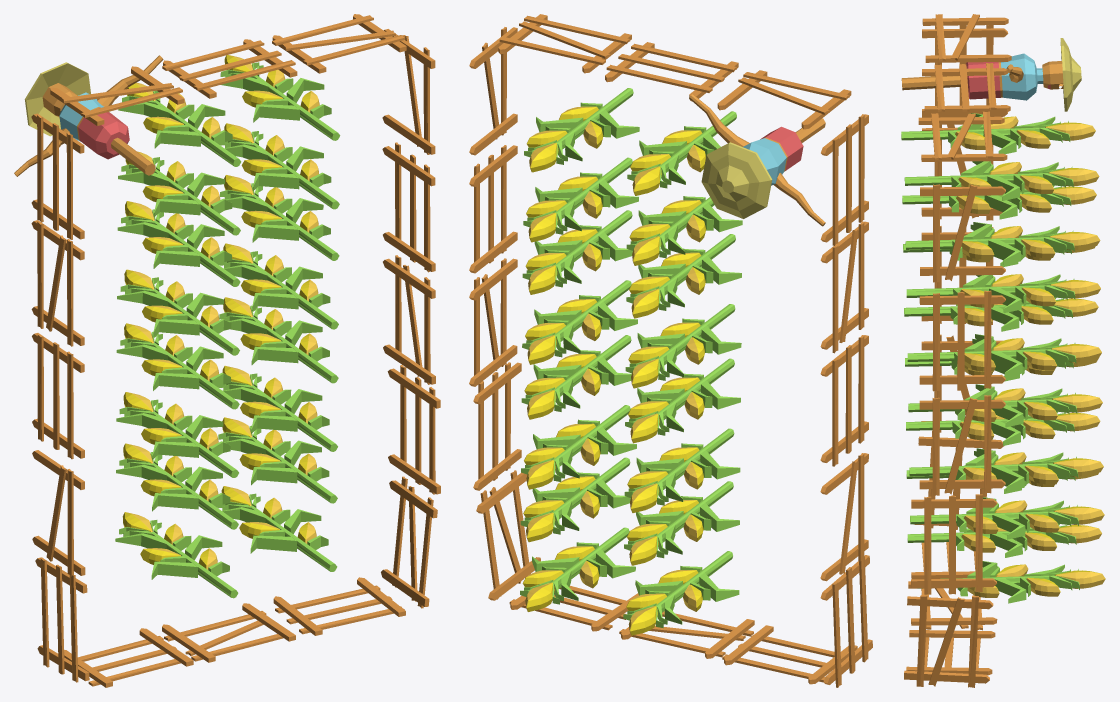
The model's file is granja.fbx.
3 renders of one model, left to right at view 1: azimuth 30°, elevation 25°; view 2: azimuth 150°, elevation 25°; view 3: azimuth 270°, elevation 25°, orthographic. The views are drawn at different scales.
Parts seen in each view (by area): view 1: Object_3; view 2: Object_3; view 3: Object_3.
Boxes of the visible parts, left/top/right/bottom form: Object_3: left=14, top=14, right=440, bottom=687; Object_3: left=469, top=14, right=872, bottom=687; Object_3: left=901, top=14, right=1105, bottom=687.
Size of the model in its own units: 2713 by 4004 by 1408.
